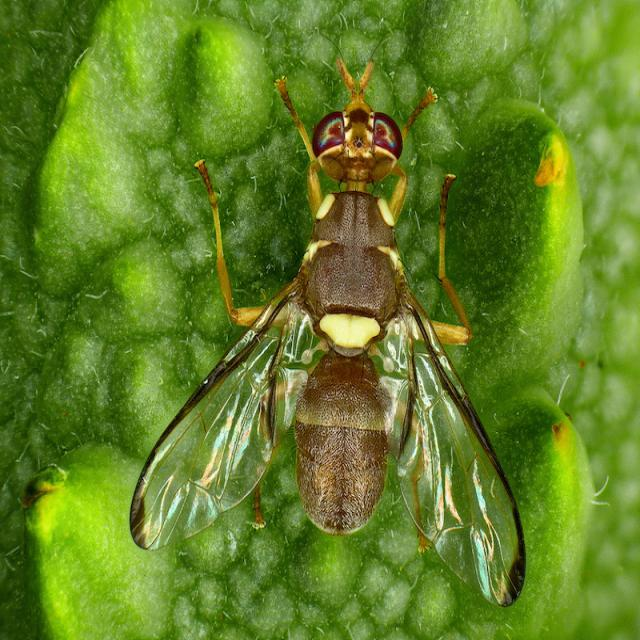Fruit fly: (124, 39, 537, 619)
